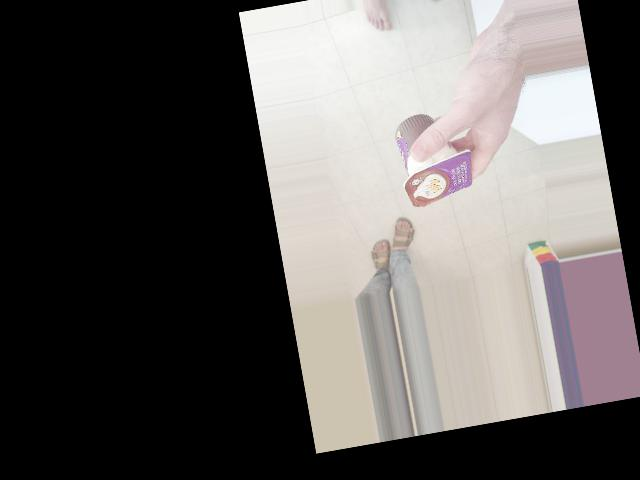milky: (368, 149, 473, 222)
